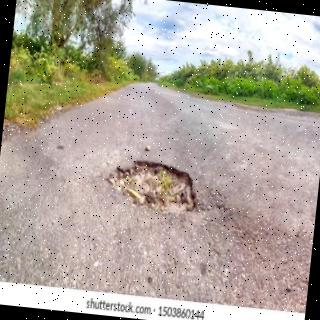pothole: (107, 160, 198, 213)
